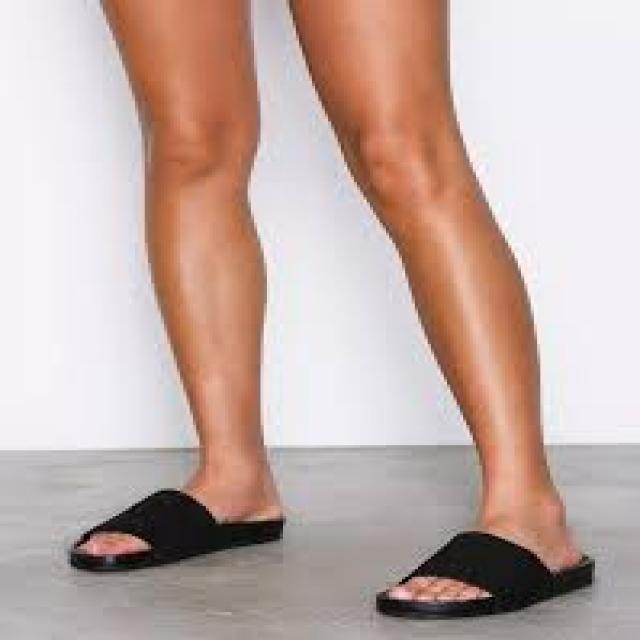Sandals: (376, 494, 596, 619), (70, 481, 288, 572)
